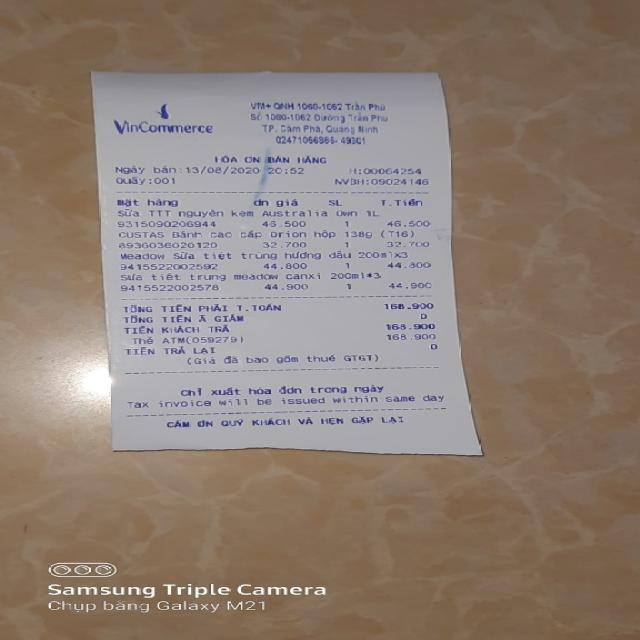Date: (184, 166, 263, 175)
Store_Name: (106, 120, 222, 138)
amount_number: (382, 300, 439, 310)
label_total: (120, 302, 283, 314)
